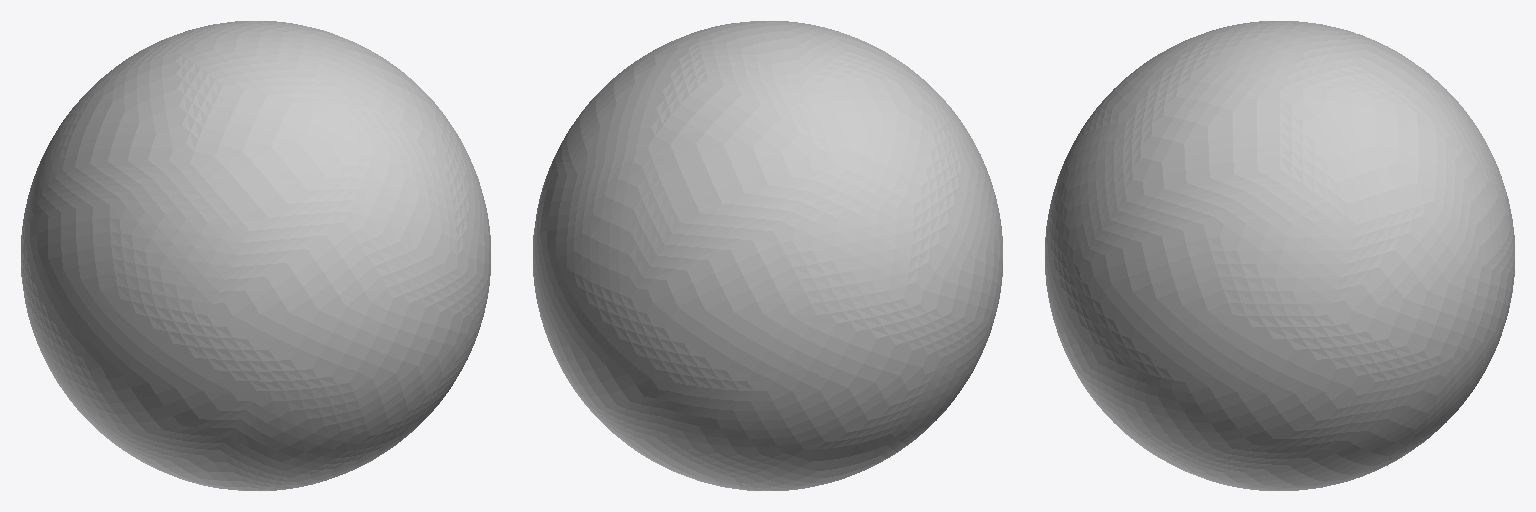
Rendered from bola.obj.
3 views of the same model, side by side, from view 1: azimuth 30°, elevation 25°; view 2: azimuth 150°, elevation 25°; view 3: azimuth 270°, elevation 25° (orthographic).
Parts seen in each view (by area): view 1: Icosphere; view 2: Icosphere; view 3: Icosphere.
Part boxes in pixels (x1,y1,x2,y2): Icosphere: (21, 21, 490, 490); Icosphere: (533, 21, 1002, 490); Icosphere: (1045, 21, 1514, 490).
Size of the model in its own units: 0.3446 by 0.3448 by 0.3447.